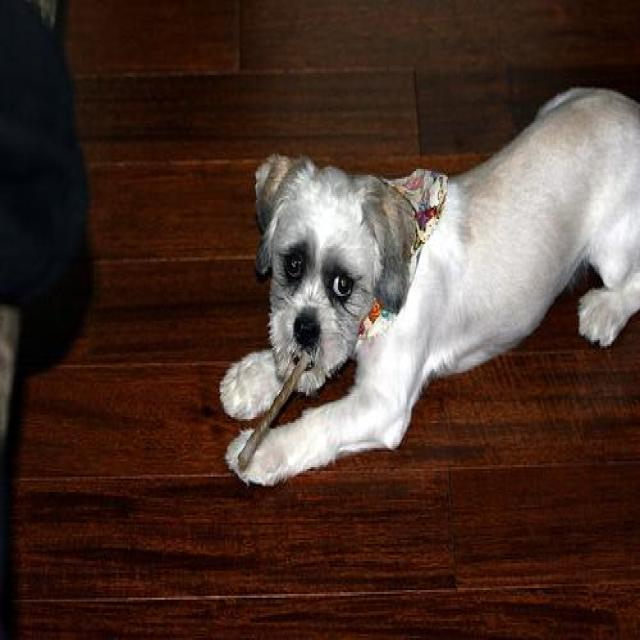shih_tzu: (217, 85, 638, 488)
